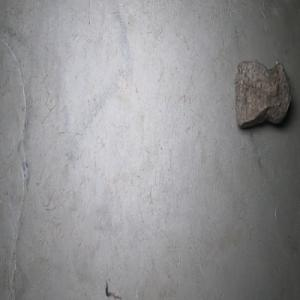Rock: (234, 59, 292, 129)
